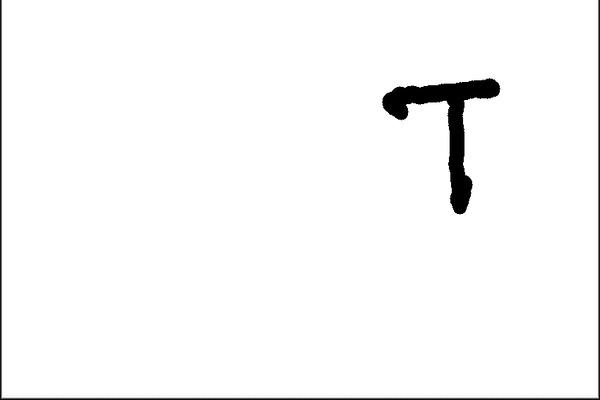T: (376, 67, 511, 217)
